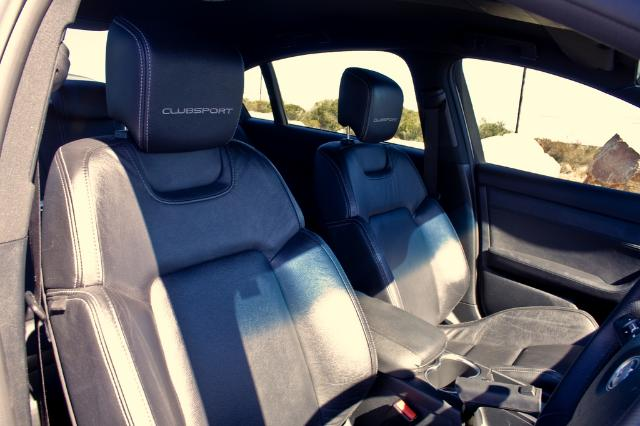Seatbelt: (24, 157, 51, 426)
